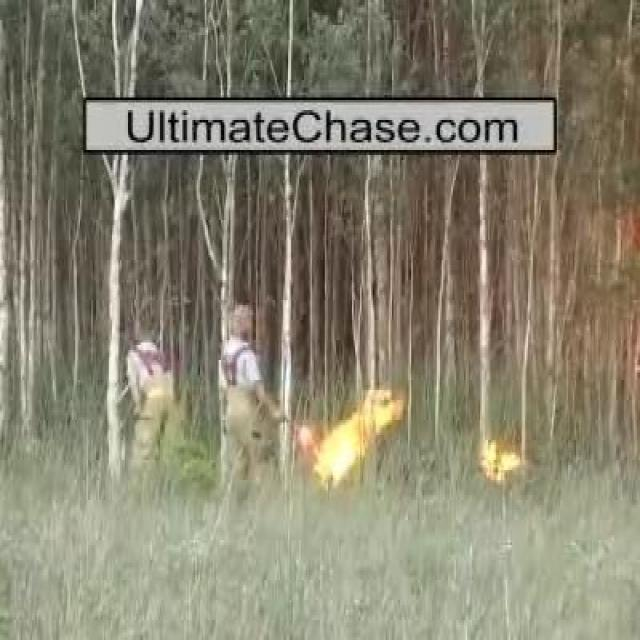Fire: (302, 392, 403, 488), (483, 444, 522, 484)
